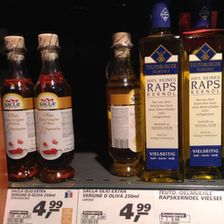oil: (139, 5, 183, 183), (182, 7, 224, 179), (31, 35, 76, 181), (101, 32, 143, 175), (1, 33, 37, 181)
